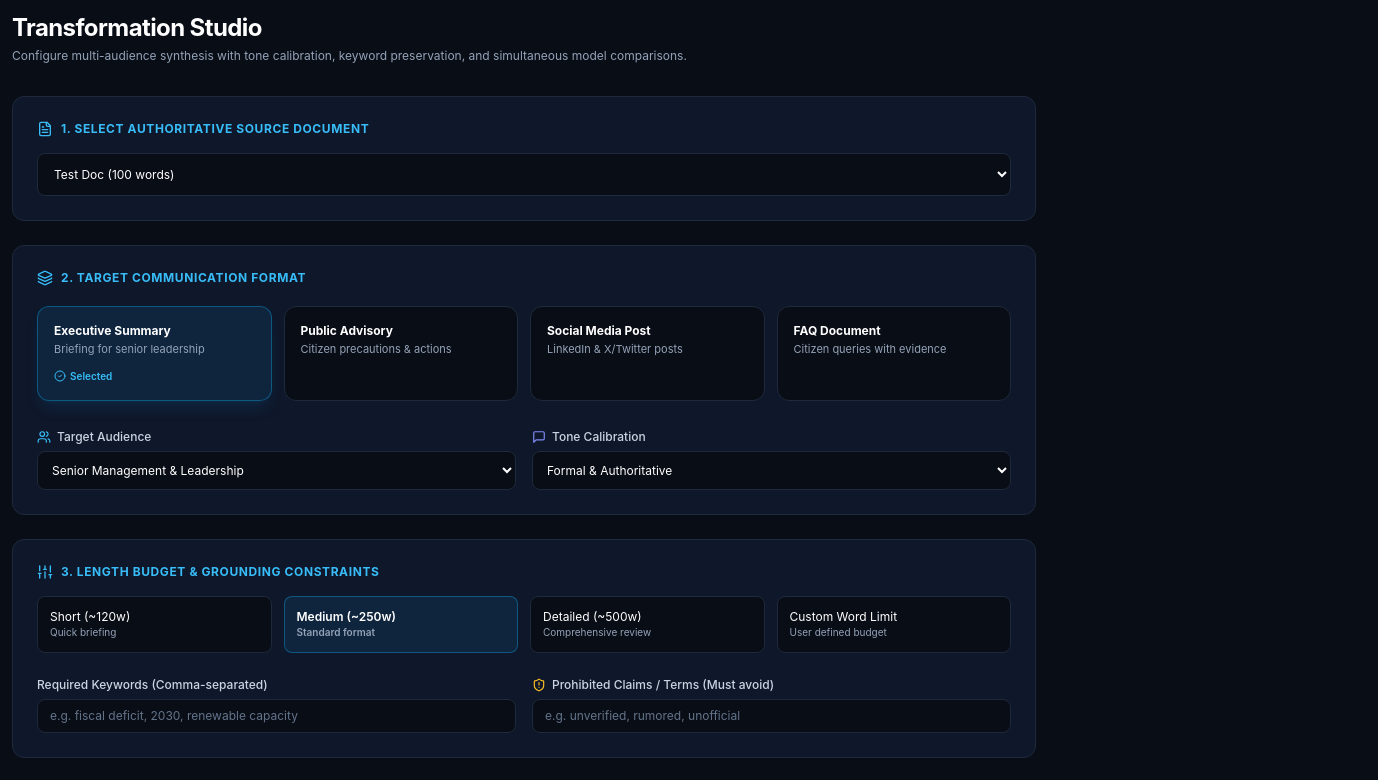
Test: TransformationStudioPage › allows format type selection
Check: the text "Executive Summary" is shown, box [54, 323, 171, 338]
// Click on Public Advisory
Click the text "Public Advisory" at {"x": 347, "y": 330}, box [300, 323, 393, 338]
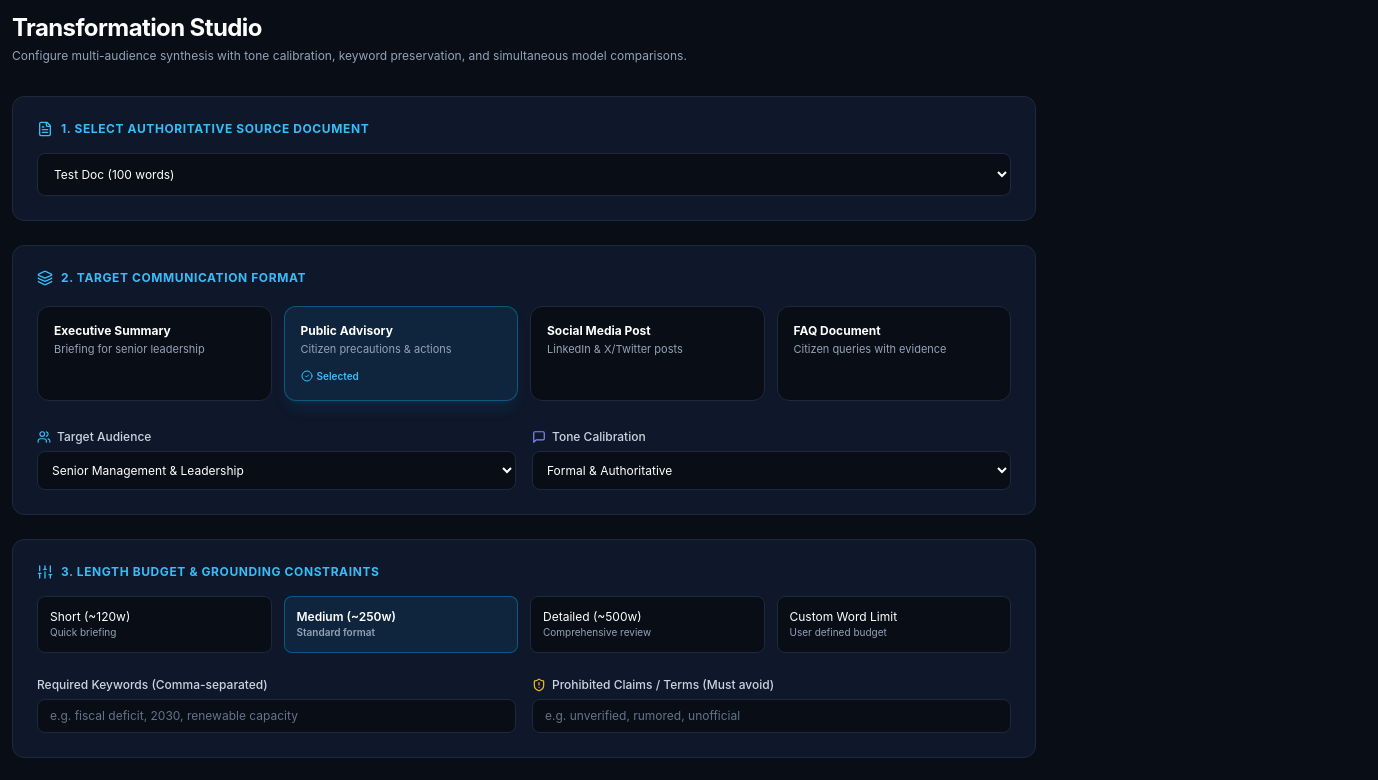
Check: the button "Public Advisory" has class "bg-sky-500/10", box [284, 306, 518, 401]
